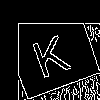K: (26, 25, 73, 79)
